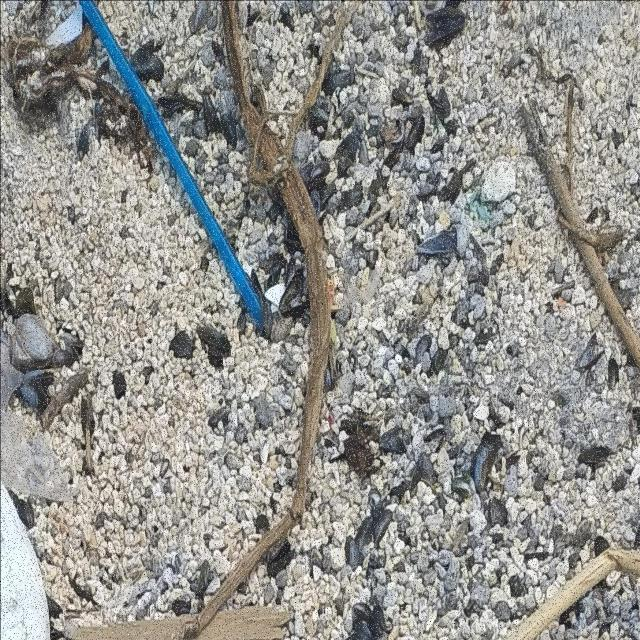plastic_waste: (78, 1, 267, 327)
